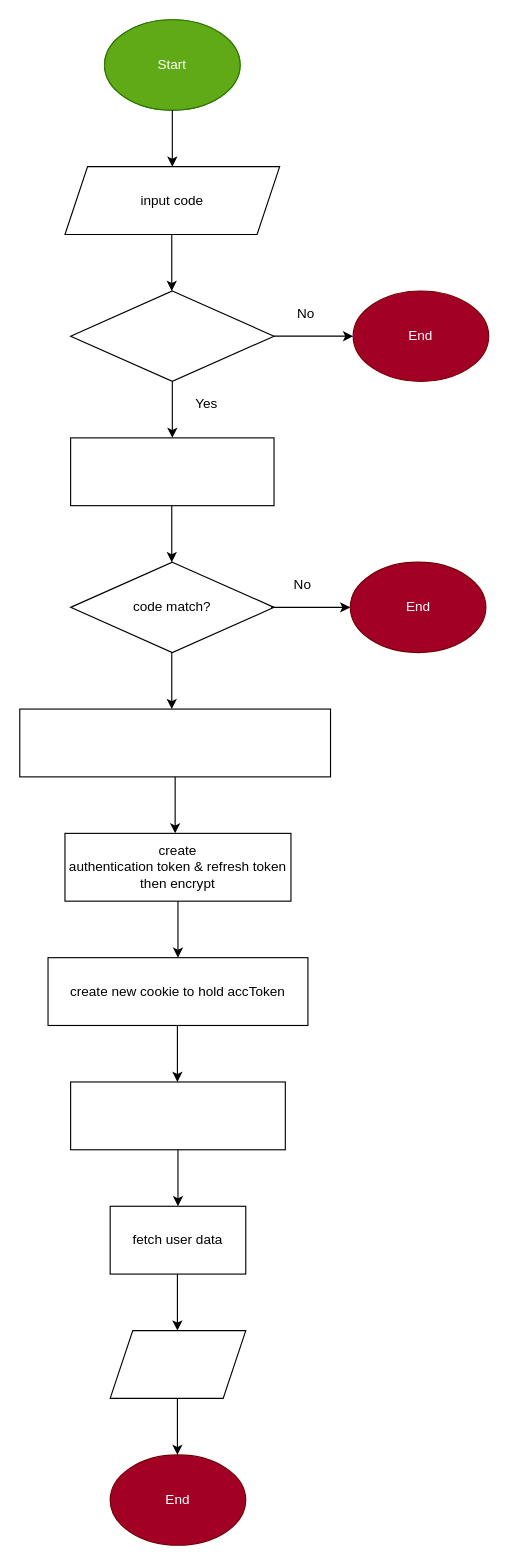
This 509x1565 diagram has some shape labels left out. Each missing label, with the centre of its shape:
"1. update code isComplete to true 2. update user jwtVersion in UserCollection" goes at (175,742).
"are inputs valid ?" goes at (171,335).
"find VerificationCode by userID from cookie" goes at (171,471).
"store refreshToken in redis" goes at (177,1115).
"user data" goes at (177,1363).
